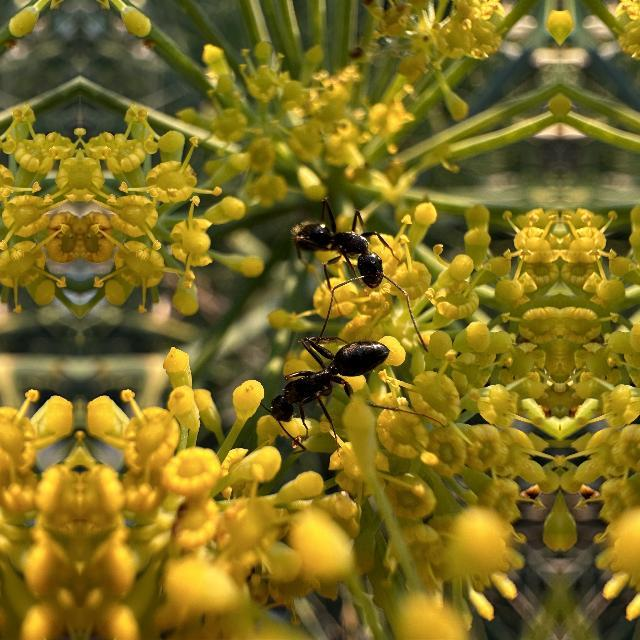Camponotus: (258, 312, 398, 450), (288, 192, 410, 314)
